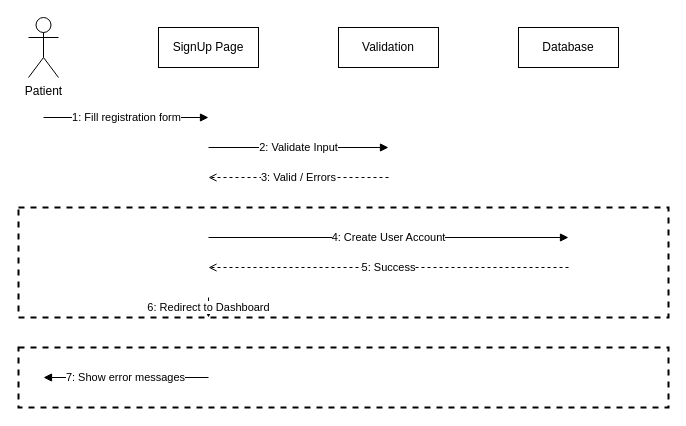
Image size: 686x426. Some labels were removed from this diagram. The shapes that lost their labels are listed below. From the top down, each one's centre as x and y in pixels, then its label:
At pixel 343 262: "alt Valid Data".
At pixel 343 377: "else Validation Error".
